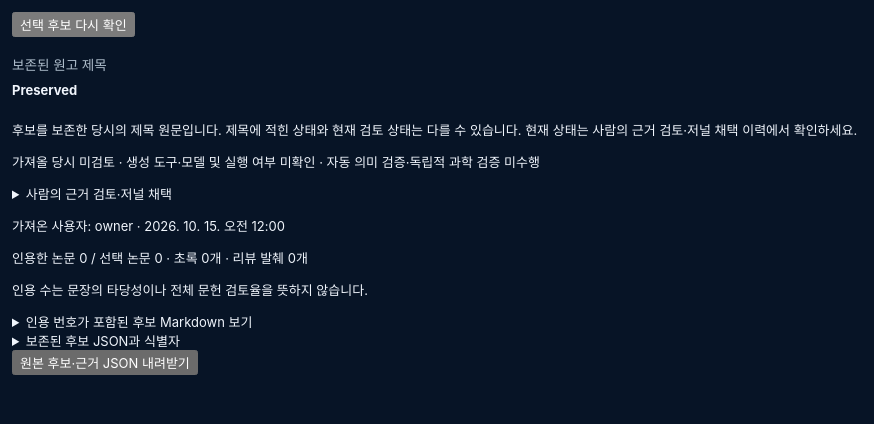
Test: does not download a nonmatching candidate or an HTTP failure
Step 1. Click the button "원본 후보·근거 JSON 내려받기" → (105, 362), box [12,350,198,375]
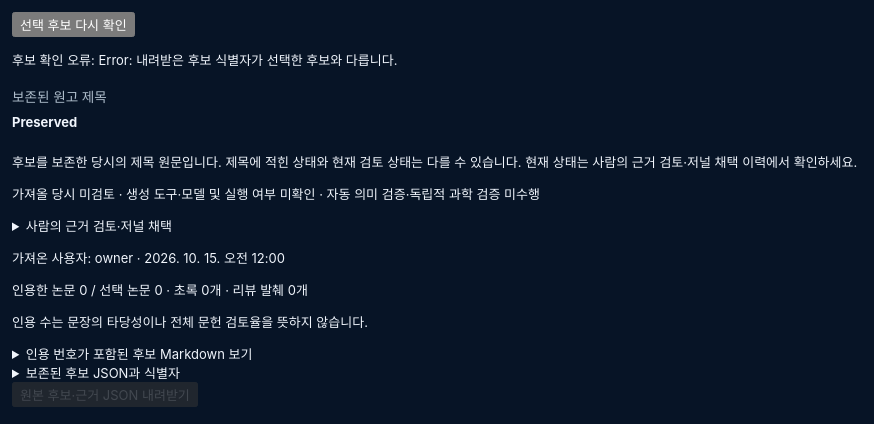
Expected: the message "후보 확인 오류: Error: 내려받은 후보 식별자가 선택한 후보와 다릅니다." is shown, [12,52,397,68]
Step 2. Click the button "선택 후보 다시 확인" → (73, 24), box [12,12,135,37]
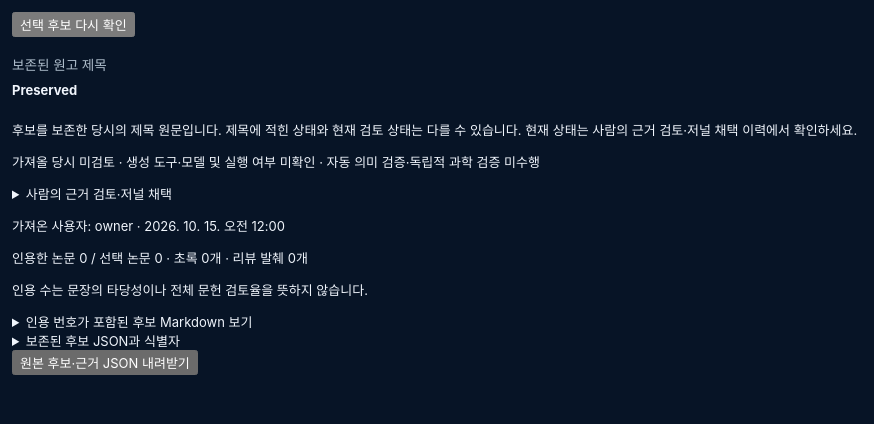
Expected: the message "후보 확인 오류: Error: 내려받은 후보 식별자가 선택한 후보와 다릅니다." is gone
Step 3. Click the button "원본 후보·근거 JSON 내려받기" → (105, 362), box [12,350,198,375]
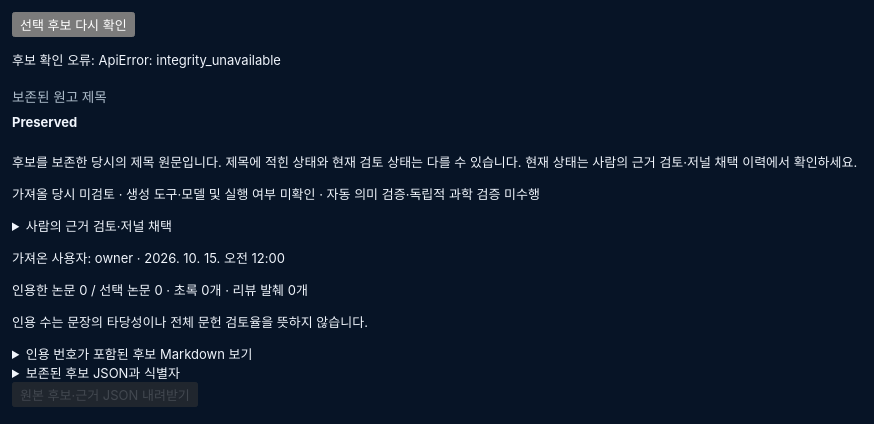
Expected: the text "후보 확인 오류: ApiError: integrity_unavailable" is shown, [12,52,281,68]
